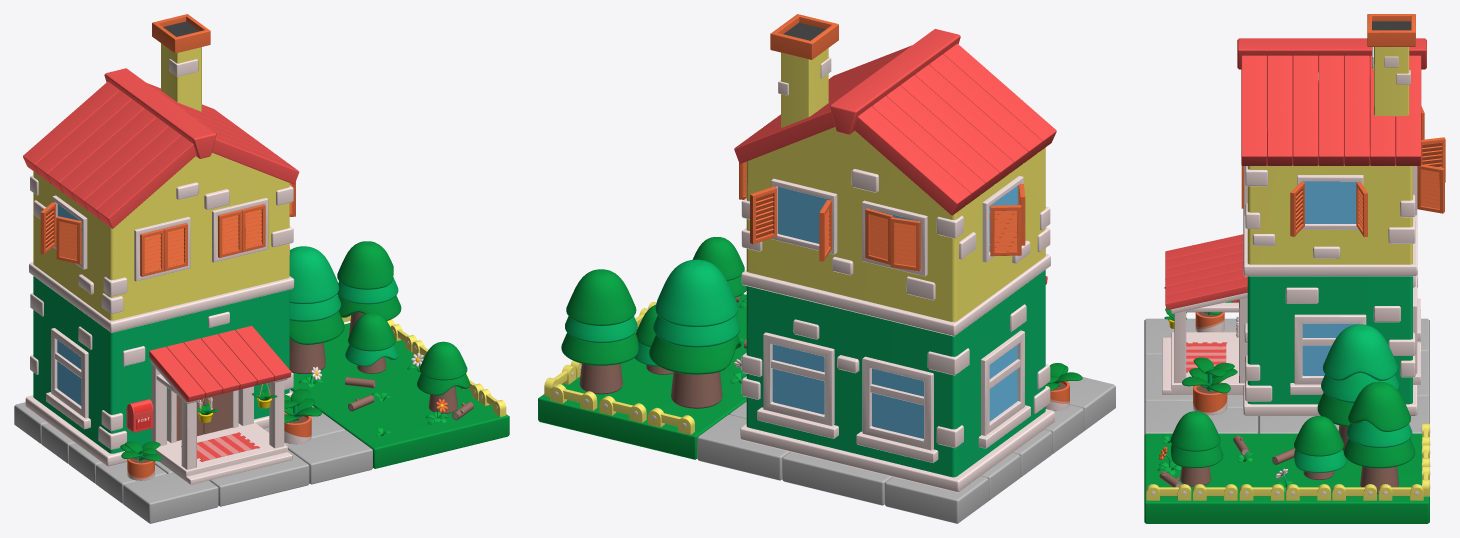
File: City_Island_17.glb
The picture shows the model from 3 angles, left to right: view 1: azimuth 30°, elevation 25°; view 2: azimuth 150°, elevation 25°; view 3: azimuth 270°, elevation 25°; orthographic projection. The views are drawn at different scales.
Parts seen in each view (by area): view 1: City_17_House_1, City_17_Base_1, City_17_Base_2, City_17_Tree_3, City_17_Tree_1, City_17_Tree_2, City_17_Tree_4, City_17_Plant_3, City_17_Plant_6, City_17_Carpet_1, City_17_Mailbox_1; view 2: City_17_House_1, City_17_Base_1, City_17_Tree_3, City_17_Base_2, City_17_Tree_1, City_17_Tree_2, City_17_Plant_6, City_17_Tree_4, City_17_Fence_8, City_17_Fence_7, City_17_Fence_9; view 3: City_17_House_1, City_17_Base_2, City_17_Base_1, City_17_Tree_1, City_17_Tree_3, City_17_Tree_2, City_17_Tree_4, City_17_Plant_3, City_17_Carpet_1, City_17_Plant_6, City_17_Fence_1, City_17_Fence_3 (+4 smaller).
Part boxes in pixels (box(x1,y1,x2,y2)): City_17_House_1: box(23, 14, 299, 484); City_17_Base_1: box(14, 389, 372, 523); City_17_Base_2: box(290, 323, 509, 468); City_17_Tree_3: box(289, 246, 344, 373); City_17_Tree_1: box(337, 241, 401, 336); City_17_Tree_2: box(417, 341, 469, 413); City_17_Tree_4: box(345, 312, 398, 373); City_17_Plant_3: box(284, 389, 321, 444); City_17_Plant_6: box(120, 441, 161, 480); City_17_Carpet_1: box(181, 432, 259, 461); City_17_Mailbox_1: box(126, 399, 153, 432); City_17_House_1: box(734, 14, 1056, 492); City_17_Base_1: box(697, 377, 1115, 523); City_17_Tree_3: box(649, 259, 741, 408); City_17_Base_2: box(538, 294, 746, 459); City_17_Tree_1: box(561, 269, 638, 394); City_17_Tree_2: box(692, 237, 746, 297); City_17_Plant_6: box(1045, 363, 1082, 410); City_17_Tree_4: box(634, 304, 673, 374); City_17_Fence_8: box(599, 396, 646, 422); City_17_Fence_7: box(550, 384, 597, 410); City_17_Fence_9: box(647, 407, 694, 434); City_17_House_1: box(1162, 14, 1445, 415); City_17_Base_2: box(1144, 433, 1429, 523); City_17_Base_1: box(1144, 318, 1429, 434); City_17_Tree_1: box(1344, 381, 1415, 493); City_17_Tree_3: box(1317, 324, 1399, 451); City_17_Tree_2: box(1170, 411, 1223, 486); City_17_Tree_4: box(1294, 416, 1346, 479); City_17_Plant_3: box(1182, 357, 1237, 415); City_17_Carpet_1: box(1186, 342, 1227, 372); City_17_Plant_6: box(1195, 301, 1232, 332); City_17_Fence_1: box(1146, 484, 1191, 500); City_17_Fence_3: box(1239, 484, 1284, 500).
Bounding box in the file's own units: 11.56 × 11.08 × 7.68.
Materials: 30 (30 with a texture image).
